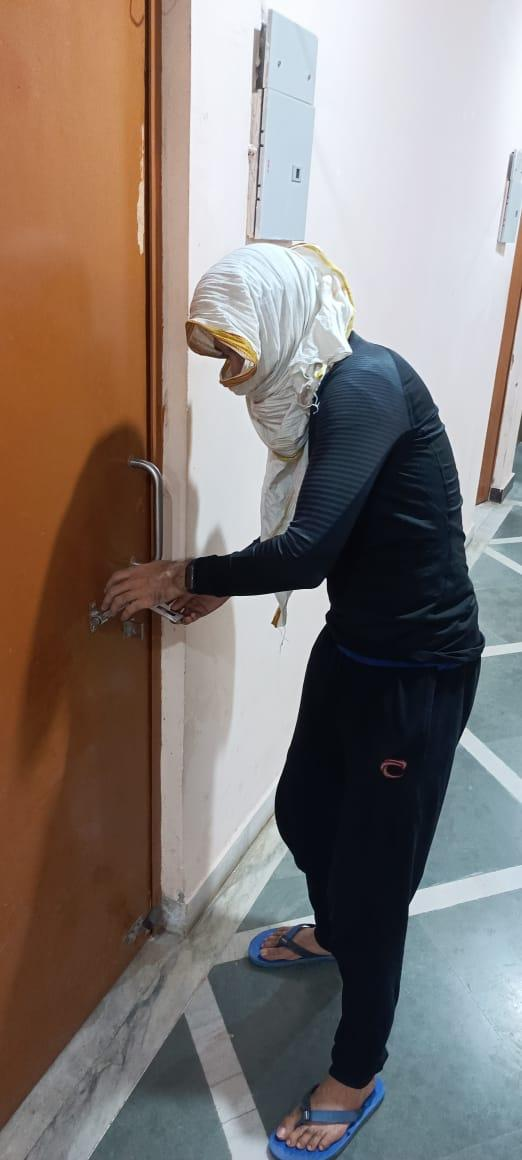suspicion: (63, 243, 522, 1160), (163, 210, 483, 1160)
